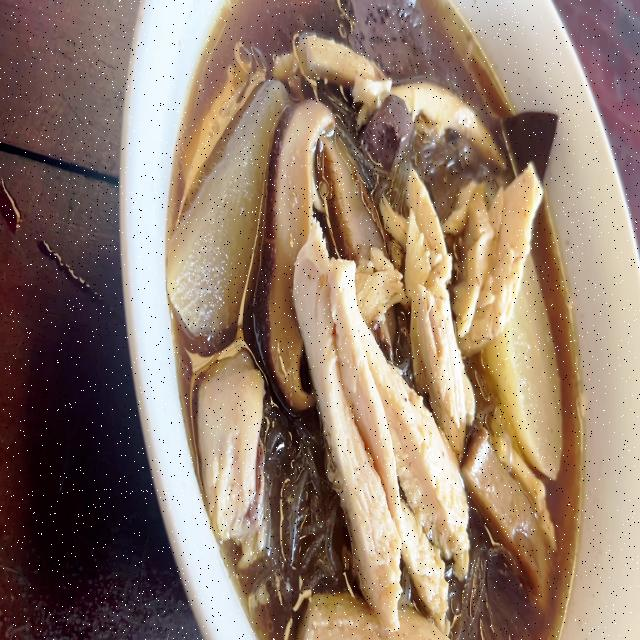boiled_chicken_blood_jelly: (330, 0, 430, 71), (509, 97, 558, 187), (371, 101, 406, 163)
chicken_shredded: (300, 240, 451, 580), (462, 180, 537, 345), (199, 352, 260, 538), (421, 188, 461, 421), (390, 76, 499, 151), (299, 585, 441, 640), (299, 35, 384, 107)
daikon_radish: (167, 80, 273, 343), (485, 280, 560, 474)
noodle: (163, 0, 586, 640)
